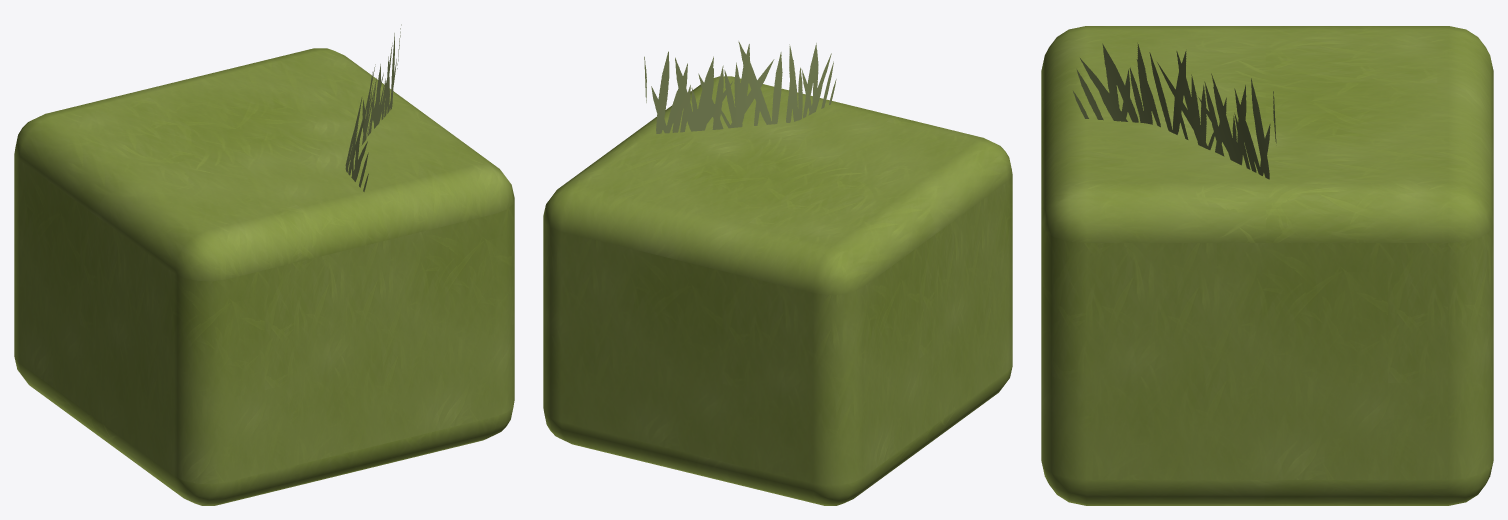
Rendered from Stage_tile_004.fbx.
The picture shows the model from 3 angles, left to right: view 1: azimuth 30°, elevation 25°; view 2: azimuth 150°, elevation 25°; view 3: azimuth 270°, elevation 25°; orthographic projection. The views are drawn at different scales.
Parts seen in each view (by area): view 1: Map_04.002, grass_02; view 2: Map_04.002, grass_02; view 3: Map_04.002, grass_02.
Boxes of the visible parts, bbox=[...] form: Map_04.002: bbox=[14, 48, 514, 505]; grass_02: bbox=[345, 24, 401, 191]; Map_04.002: bbox=[543, 76, 1012, 505]; grass_02: bbox=[644, 41, 836, 133]; Map_04.002: bbox=[1041, 26, 1493, 505]; grass_02: bbox=[1073, 43, 1276, 179].
Size of the model in its own units: 75.75 by 78.45 by 75.75.
